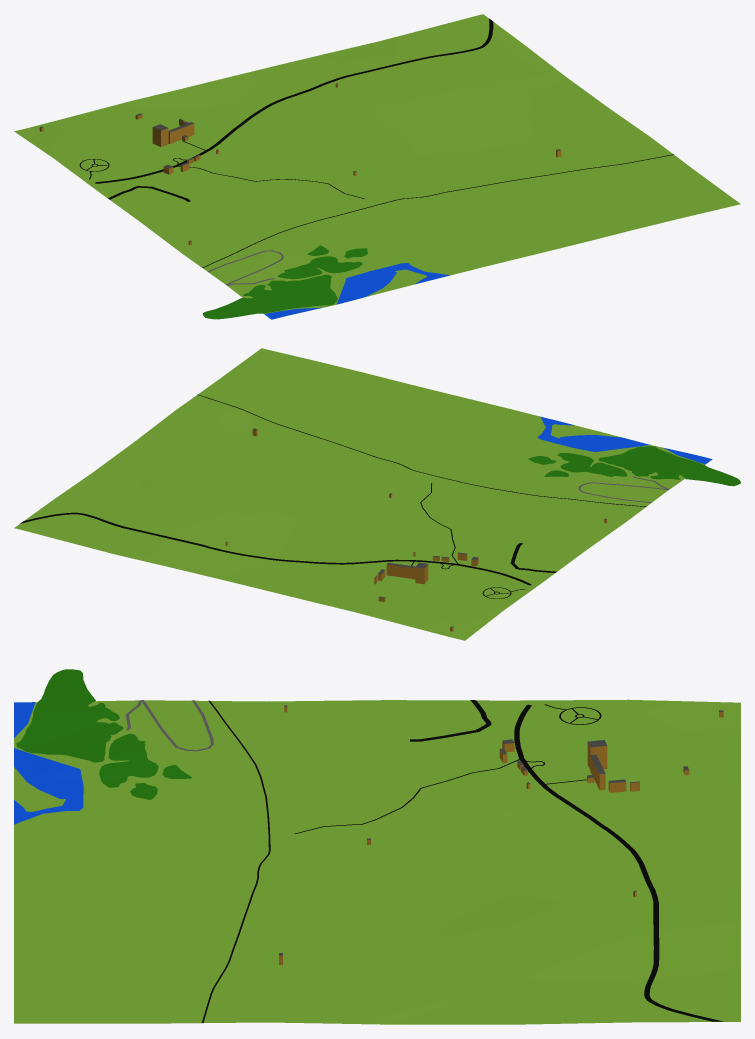
File: tile_08_01.glb
The picture shows the model from 3 angles, top to bottom: view 1: azimuth 30°, elevation 25°; view 2: azimuth 150°, elevation 25°; view 3: azimuth 270°, elevation 25°; orthographic projection. The views are drawn at different scales.
Visible parts, largest first — view 1: Terrain_08_01, Ub_small.osm_forest_08_01, Ub_small.osm_water_08_01, Ub_small.osm_roads_unclassified_08_01, Ub_small.osm_buildings_08_01, Ub_small.osm_paths_cycleway_08_01; view 2: Terrain_08_01, Ub_small.osm_forest_08_01, Ub_small.osm_water_08_01, Ub_small.osm_roads_unclassified_08_01, Ub_small.osm_buildings_08_01, Ub_small.osm_paths_cycleway_08_01; view 3: Terrain_08_01, Ub_small.osm_forest_08_01, Ub_small.osm_water_08_01, Ub_small.osm_roads_unclassified_08_01, Ub_small.osm_buildings_08_01, Ub_small.osm_paths_cycleway_08_01, Ub_small.osm_paths_footway_08_01.
Boxes of the visible parts, x1,y1,x2,y2 form: Terrain_08_01: (14,14,740,317); Ub_small.osm_forest_08_01: (202,245,367,319); Ub_small.osm_water_08_01: (264,263,450,319); Ub_small.osm_roads_unclassified_08_01: (95,18,493,201); Ub_small.osm_buildings_08_01: (39,83,561,245); Ub_small.osm_paths_cycleway_08_01: (202,154,673,267); Terrain_08_01: (14,348,704,640); Ub_small.osm_forest_08_01: (528,446,740,486); Ub_small.osm_water_08_01: (537,416,712,464); Ub_small.osm_roads_unclassified_08_01: (20,512,556,585); Ub_small.osm_buildings_08_01: (225,428,607,631); Ub_small.osm_paths_cycleway_08_01: (197,394,645,506); Terrain_08_01: (14,699,740,1024); Ub_small.osm_forest_08_01: (16,669,192,799); Ub_small.osm_water_08_01: (14,702,83,824); Ub_small.osm_roads_unclassified_08_01: (410,700,723,1021); Ub_small.osm_buildings_08_01: (279,705,723,964); Ub_small.osm_paths_cycleway_08_01: (202,700,270,1022); Ub_small.osm_paths_footway_08_01: (295,704,601,833).
Size of the model in its own units: 1078 by 36.61 by 930.
